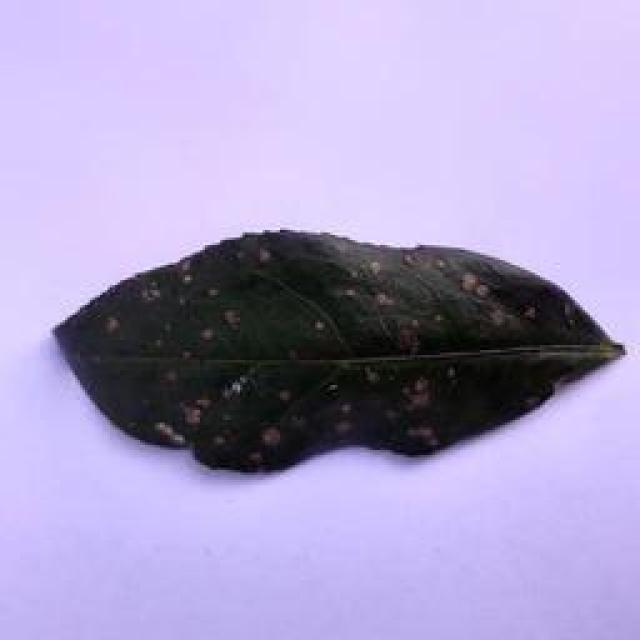Algal Leaf Spot: (49, 216, 630, 475)
